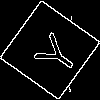Y: (25, 25, 83, 80)
